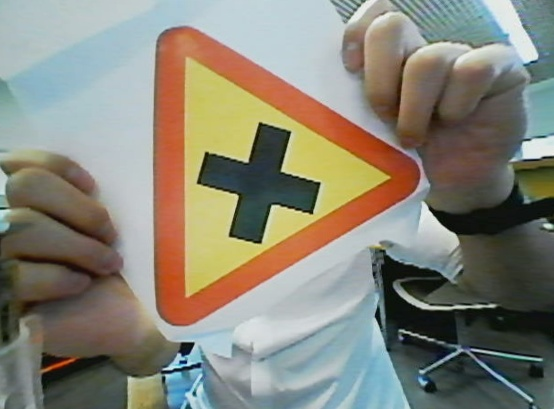junction: (147, 32, 431, 333)
